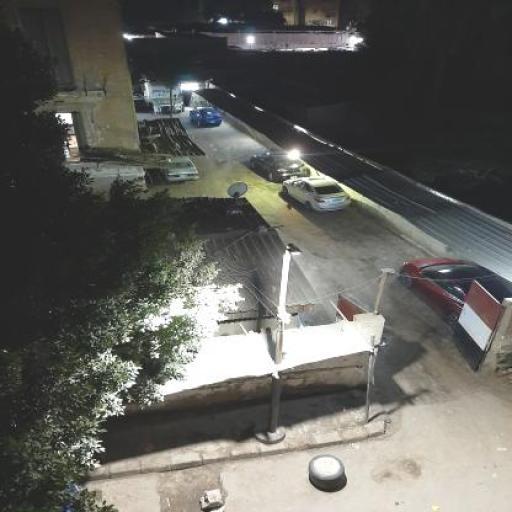street light: (266, 244, 303, 432)
